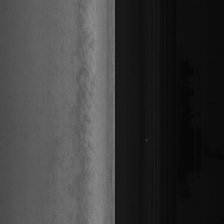silk_spot: (72, 81, 99, 147)
